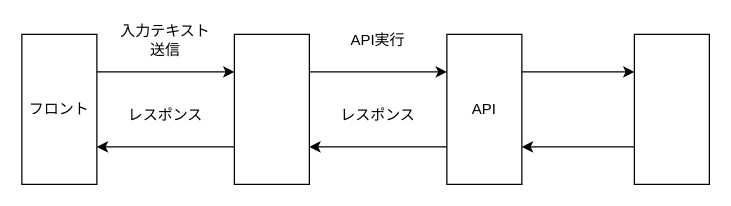
This 731x206 diagram has some shape labels left out. Here are the shapes that lost their labels. From the top down, the centre of each, then its label:
At pixel 271 108: "Spring".
At pixel 671 108: "AI".
